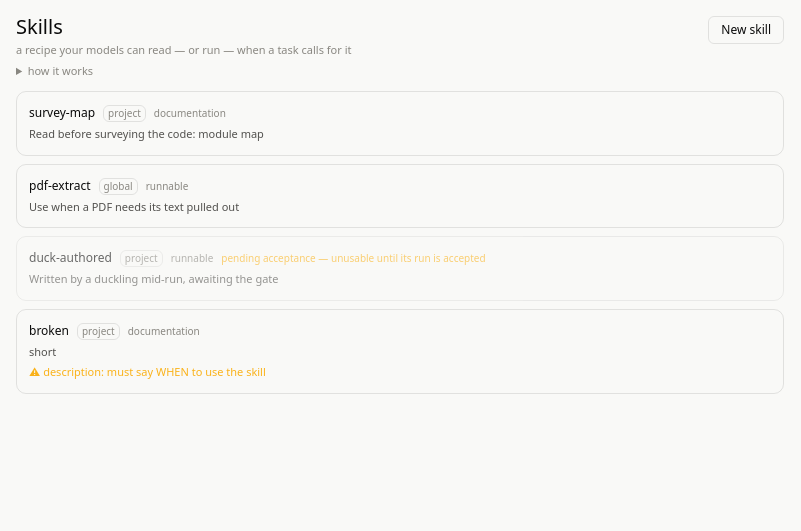
Skills view › opens a skill to read its body — documentation is the default form
Click the button with test id "skill-open-survey-map".
click(62, 113)  # box [29,104,95,122]
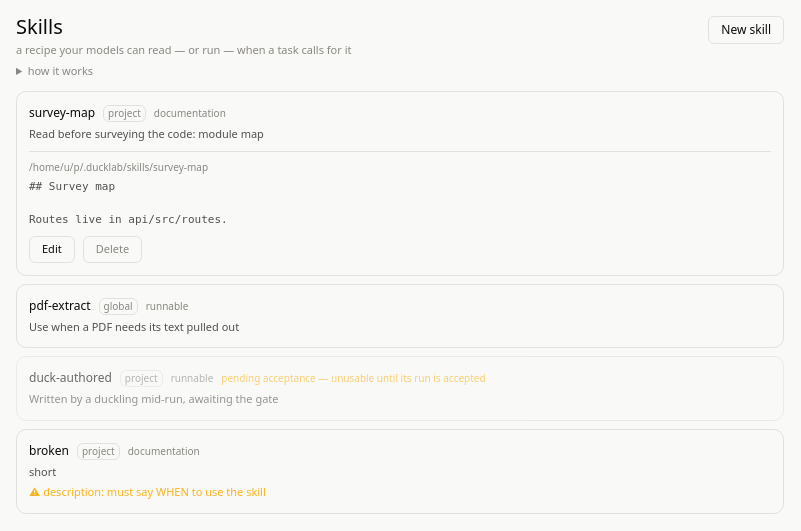
Check: the element with test id "skill-detail" shows "Routes live in api/src/routes.", box [29,180,228,226]
